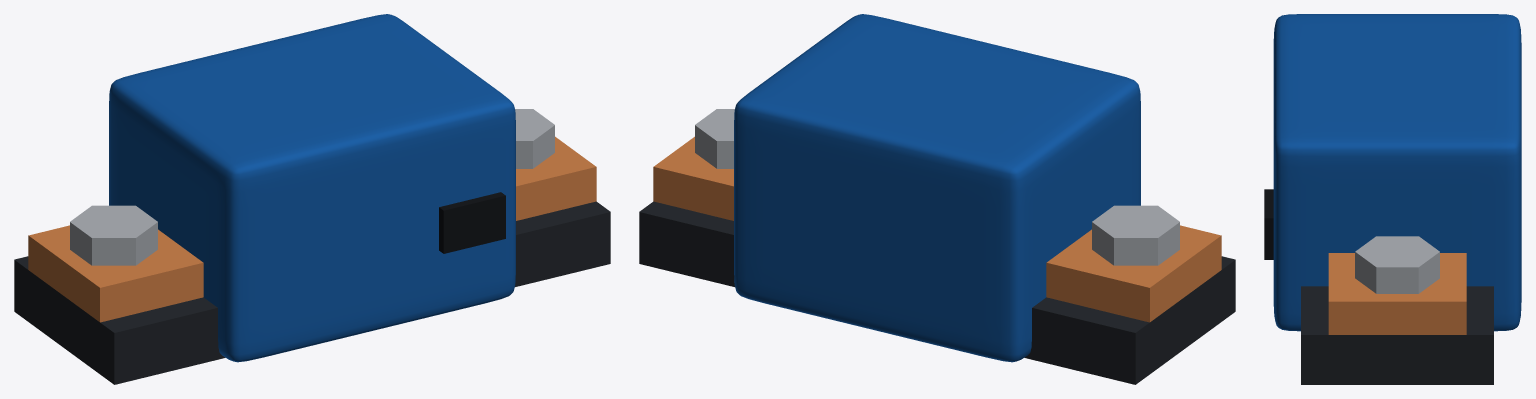
The model's file is victron_smartshunt_500a.glb.
3 views of the same model, side by side, from view 1: azimuth 30°, elevation 25°; view 2: azimuth 150°, elevation 25°; view 3: azimuth 270°, elevation 25° (orthographic). The views are drawn at different scales.
Visible parts, largest first — view 1: victron_smartshunt_500a; view 2: victron_smartshunt_500a; view 3: victron_smartshunt_500a.
Part boxes in pixels (<box>): victron_smartshunt_500a: <box>14,14,610,384</box>; victron_smartshunt_500a: <box>639,14,1235,384</box>; victron_smartshunt_500a: <box>1264,14,1521,384</box>.
Size of the model in its own units: 0.12 by 0.046 by 0.056.
